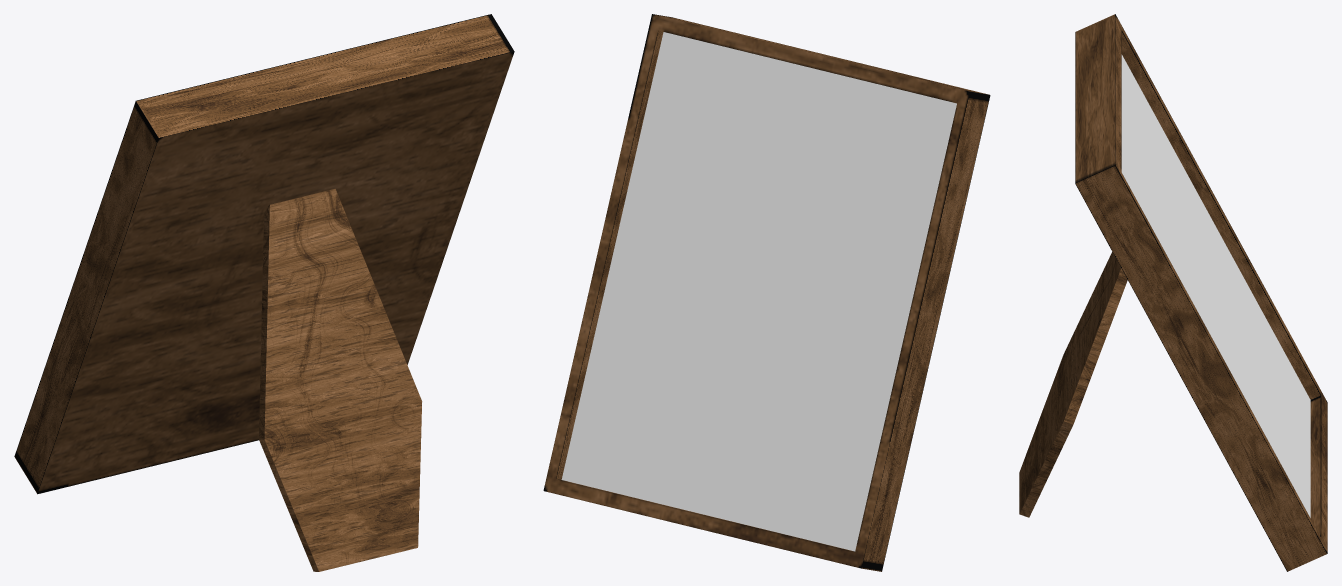
The model's file is mirror.glb.
3 views of the same model, side by side, from view 1: azimuth 30°, elevation 25°; view 2: azimuth 150°, elevation 25°; view 3: azimuth 270°, elevation 25° (orthographic). The views are drawn at different scales.
Parts seen in each view (by area): view 1: Cube, Plane.001; view 2: Plane, Cube; view 3: Cube, Plane, Plane.001.
Part boxes in pixels (x1,y1,x2,y2): Cube: [14, 14, 514, 494]; Plane.001: [259, 188, 422, 571]; Plane: [561, 32, 956, 551]; Cube: [543, 14, 990, 571]; Cube: [1075, 14, 1327, 571]; Plane: [1121, 54, 1310, 517]; Plane.001: [1019, 252, 1127, 517].
Size of the model in its own units: 1.6 by 2 by 1.37.
Materials: 3 (2 with a texture image).
